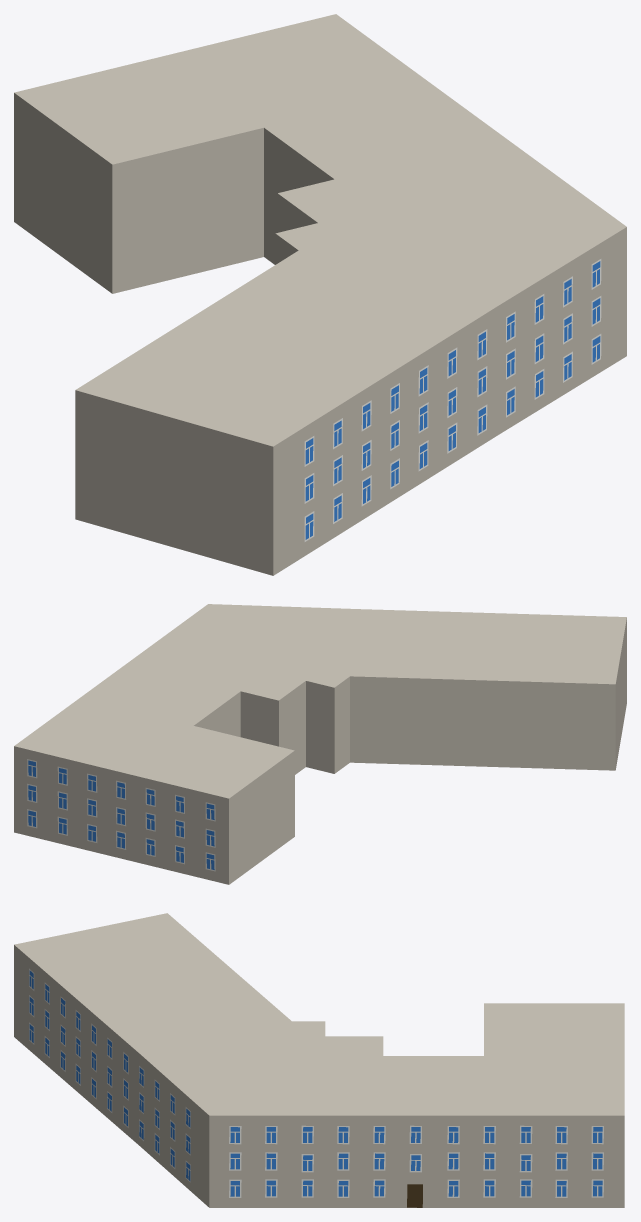
The picture shows the model from 3 angles, top to bottom: view 1: azimuth 30°, elevation 25°; view 2: azimuth 150°, elevation 25°; view 3: azimuth 270°, elevation 25°; orthographic projection. The views are drawn at different scales.
Visible parts, largest first — view 1: Плоскость.940; view 2: Плоскость.940; view 3: Плоскость.940.
Part boxes in pixels (x1,y1,x2,y2): Плоскость.940: (14, 14, 626, 575); Плоскость.940: (14, 604, 626, 884); Плоскость.940: (14, 913, 624, 1207).
Size of the model in its own units: 393 by 82.98 by 499.
